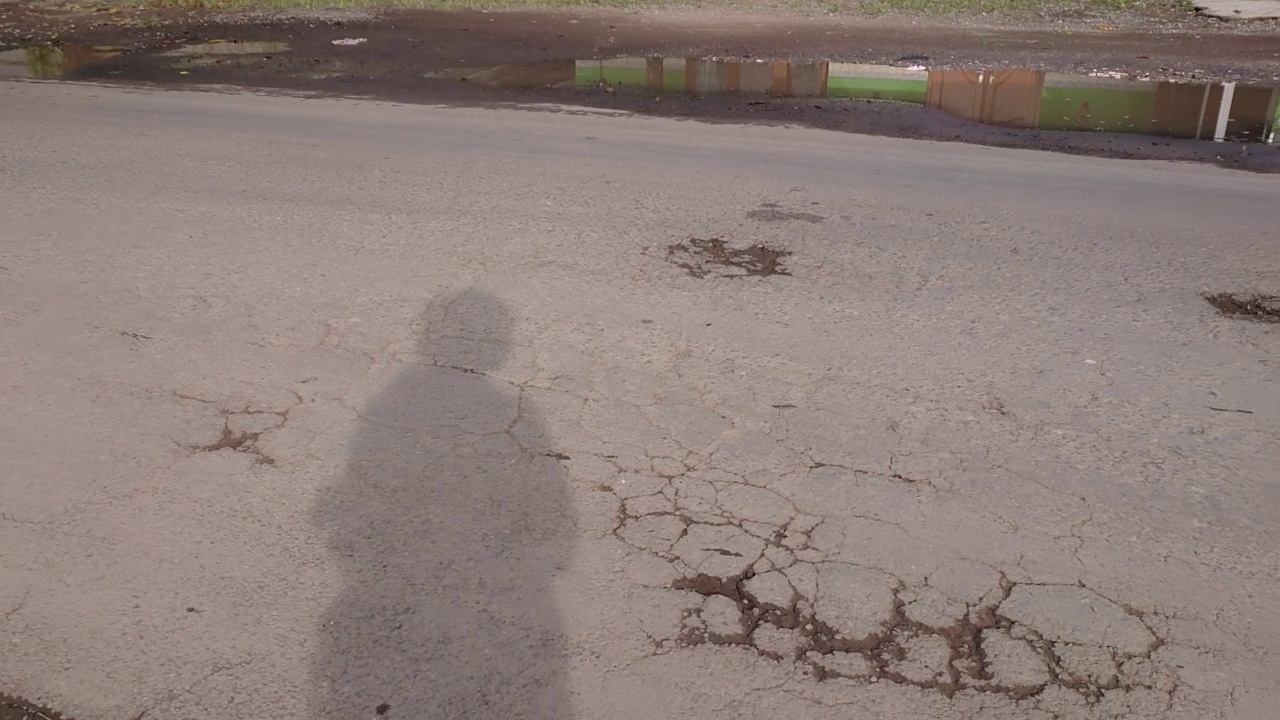Retak: (638, 503, 1180, 720), (180, 382, 293, 465), (694, 233, 786, 281)
